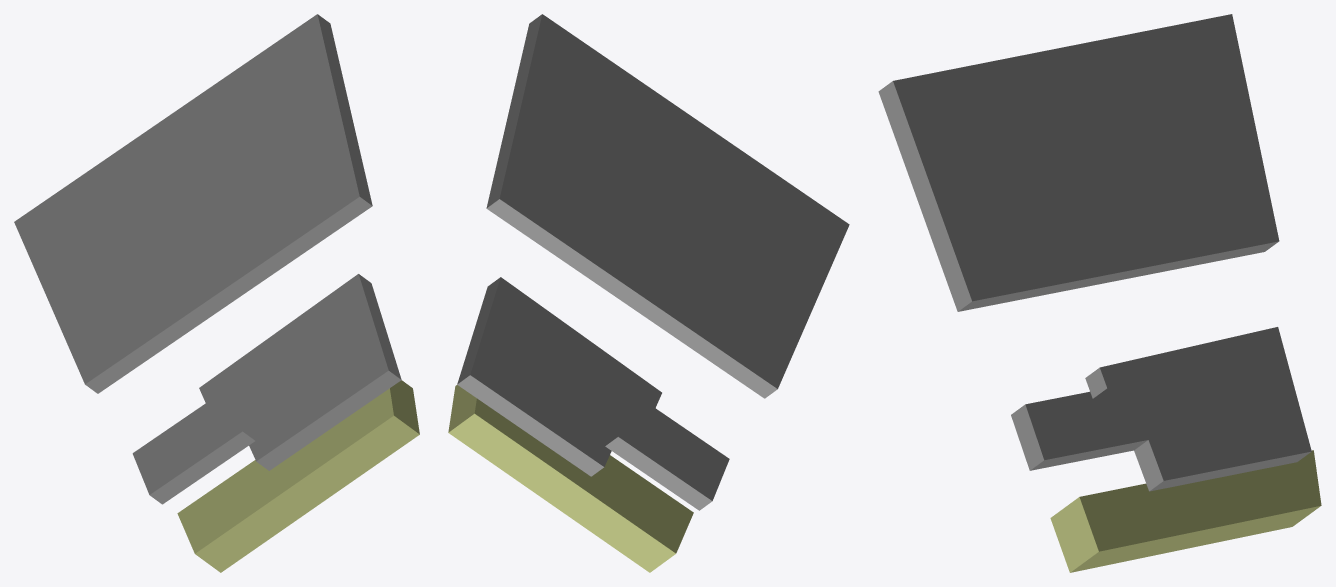
The picture shows the model from 3 angles, left to right: view 1: azimuth 30°, elevation 25°; view 2: azimuth 150°, elevation 25°; view 3: azimuth 330°, elevation 25°; orthographic projection. The views are drawn at different scales.
Visible parts, largest first — view 1: 0_1_1_3_3_0_3_2; view 2: 0_1_1_3_3_0_3_2; view 3: 0_1_1_3_3_0_3_2.
Part boxes in pixels (bbox=[...]): 0_1_1_3_3_0_3_2: bbox=[14, 14, 419, 572]; 0_1_1_3_3_0_3_2: bbox=[448, 14, 849, 572]; 0_1_1_3_3_0_3_2: bbox=[878, 14, 1321, 572].
Size of the model in its own units: 50.89 by 65.21 by 6.
